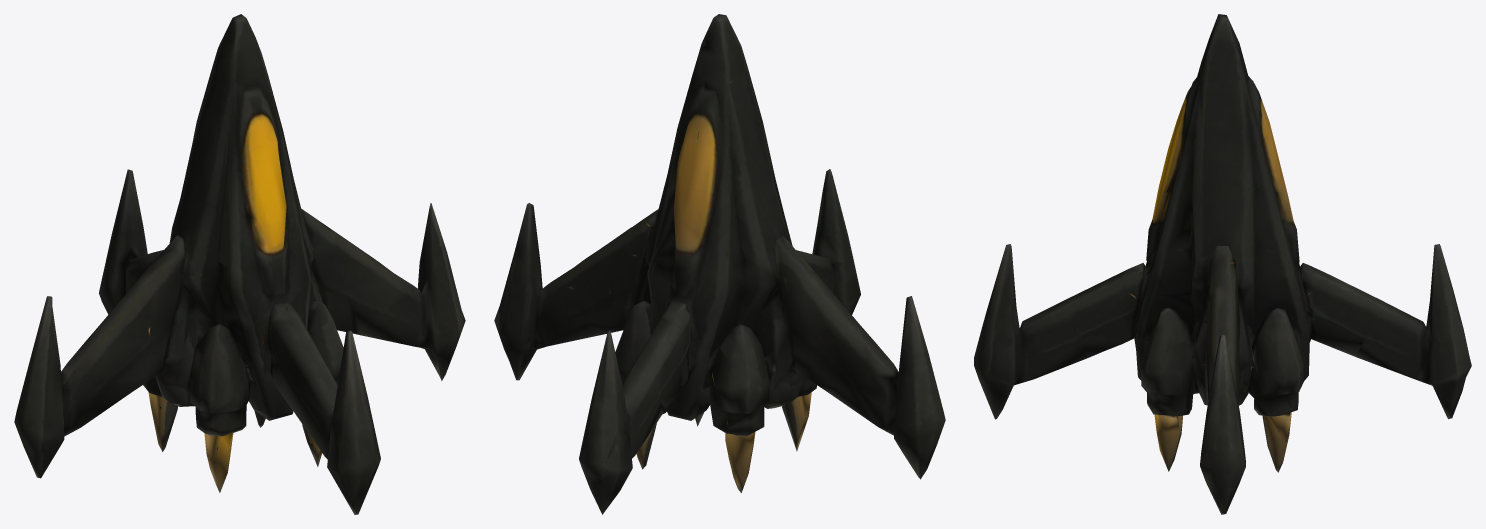
The model's file is star-c.glb.
3 renders of one model, left to right at view 1: azimuth 30°, elevation 25°; view 2: azimuth 150°, elevation 25°; view 3: azimuth 270°, elevation 25°, orthographic. The views are drawn at different scales.
Visible parts, largest first — view 1: mesh_node; view 2: mesh_node; view 3: mesh_node.
Boxes of the visible parts, box(x1,y1,x2,y2) form: mesh_node: box(14, 14, 465, 514); mesh_node: box(494, 14, 945, 514); mesh_node: box(974, 14, 1471, 514).
Bounding box in the file's own units: 1.87 × 1.8 × 1.87.
Materials: 1 (1 with a texture image).
